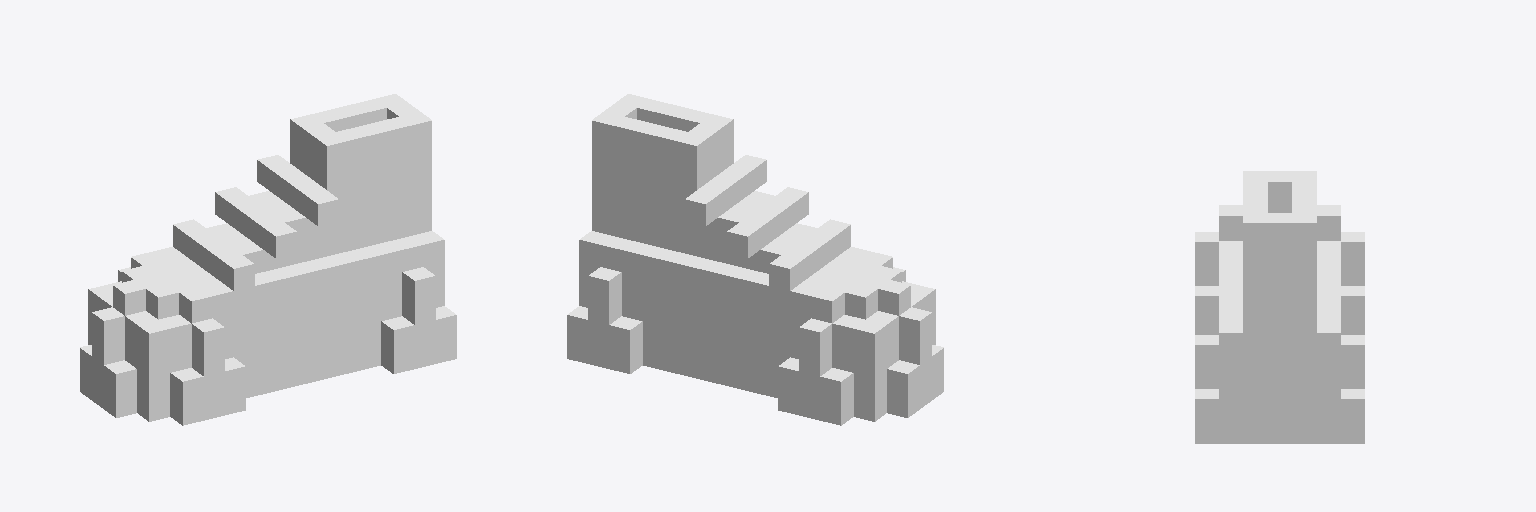
Rendered from Minero-6.obj.
3 renders of one model, left to right at view 1: azimuth 30°, elevation 25°; view 2: azimuth 150°, elevation 25°; view 3: azimuth 270°, elevation 25°, orthographic.
Parts seen in each view (by area): view 1: object 1; view 2: object 1; view 3: object 1.
Part boxes in pixels (bbox=[...]): object 1: bbox=[80, 94, 456, 425]; object 1: bbox=[567, 94, 943, 425]; object 1: bbox=[1195, 171, 1364, 443].
Size of the model in its own units: 1.5 by 1 by 0.7.